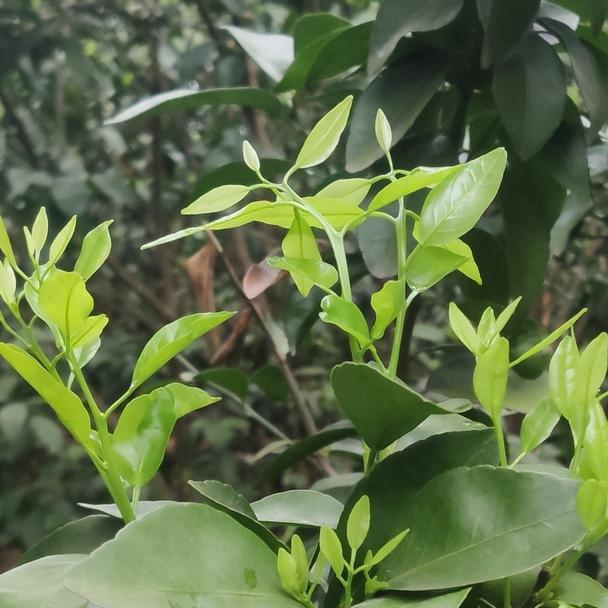shoot: (2, 209, 180, 500), (182, 134, 381, 372), (339, 121, 491, 376), (445, 293, 548, 455), (313, 523, 399, 601)
